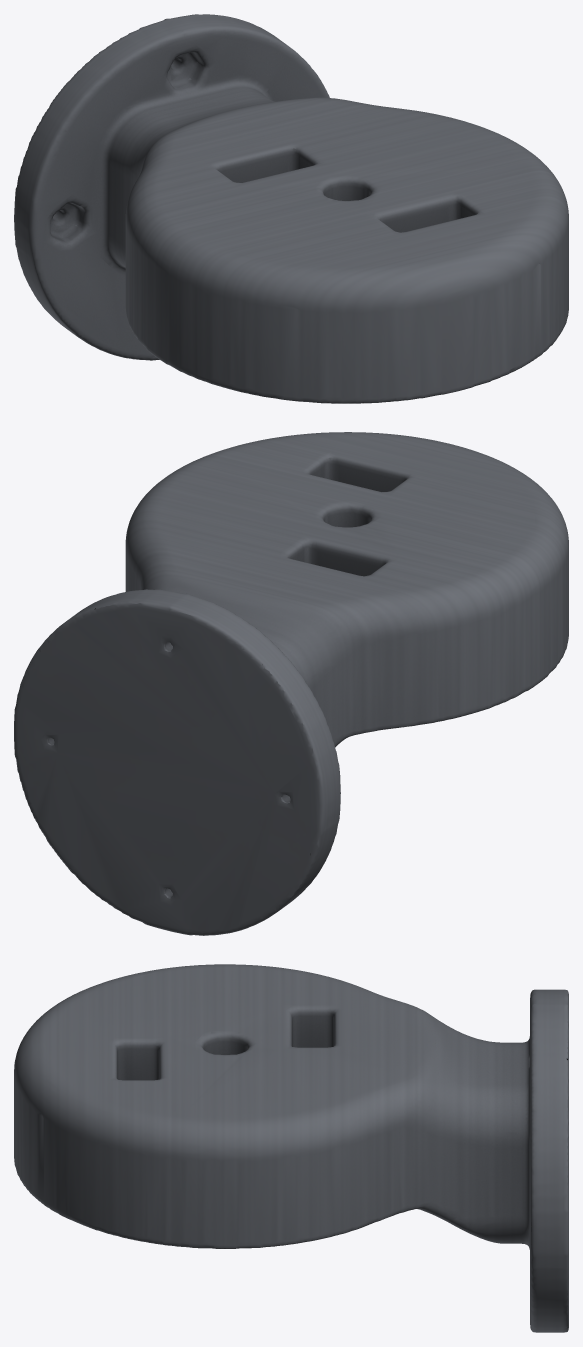
The model's file is right_elbow_midle.obj.
The picture shows the model from 3 angles, top to bottom: view 1: azimuth 30°, elevation 25°; view 2: azimuth 150°, elevation 25°; view 3: azimuth 270°, elevation 25°; orthographic projection. The views are drawn at different scales.
Parts seen in each view (by area): view 1: right_elbow_midle; view 2: right_elbow_midle; view 3: right_elbow_midle.
Boxes of the visible parts, x1,y1,x2,y2 form: right_elbow_midle: [14, 14, 568, 403]; right_elbow_midle: [14, 432, 568, 935]; right_elbow_midle: [14, 964, 568, 1332].
Bounding box in the file's own units: 0.0547 × 0.0443 × 0.0717.
Materials: 1 (1 with a texture image).
